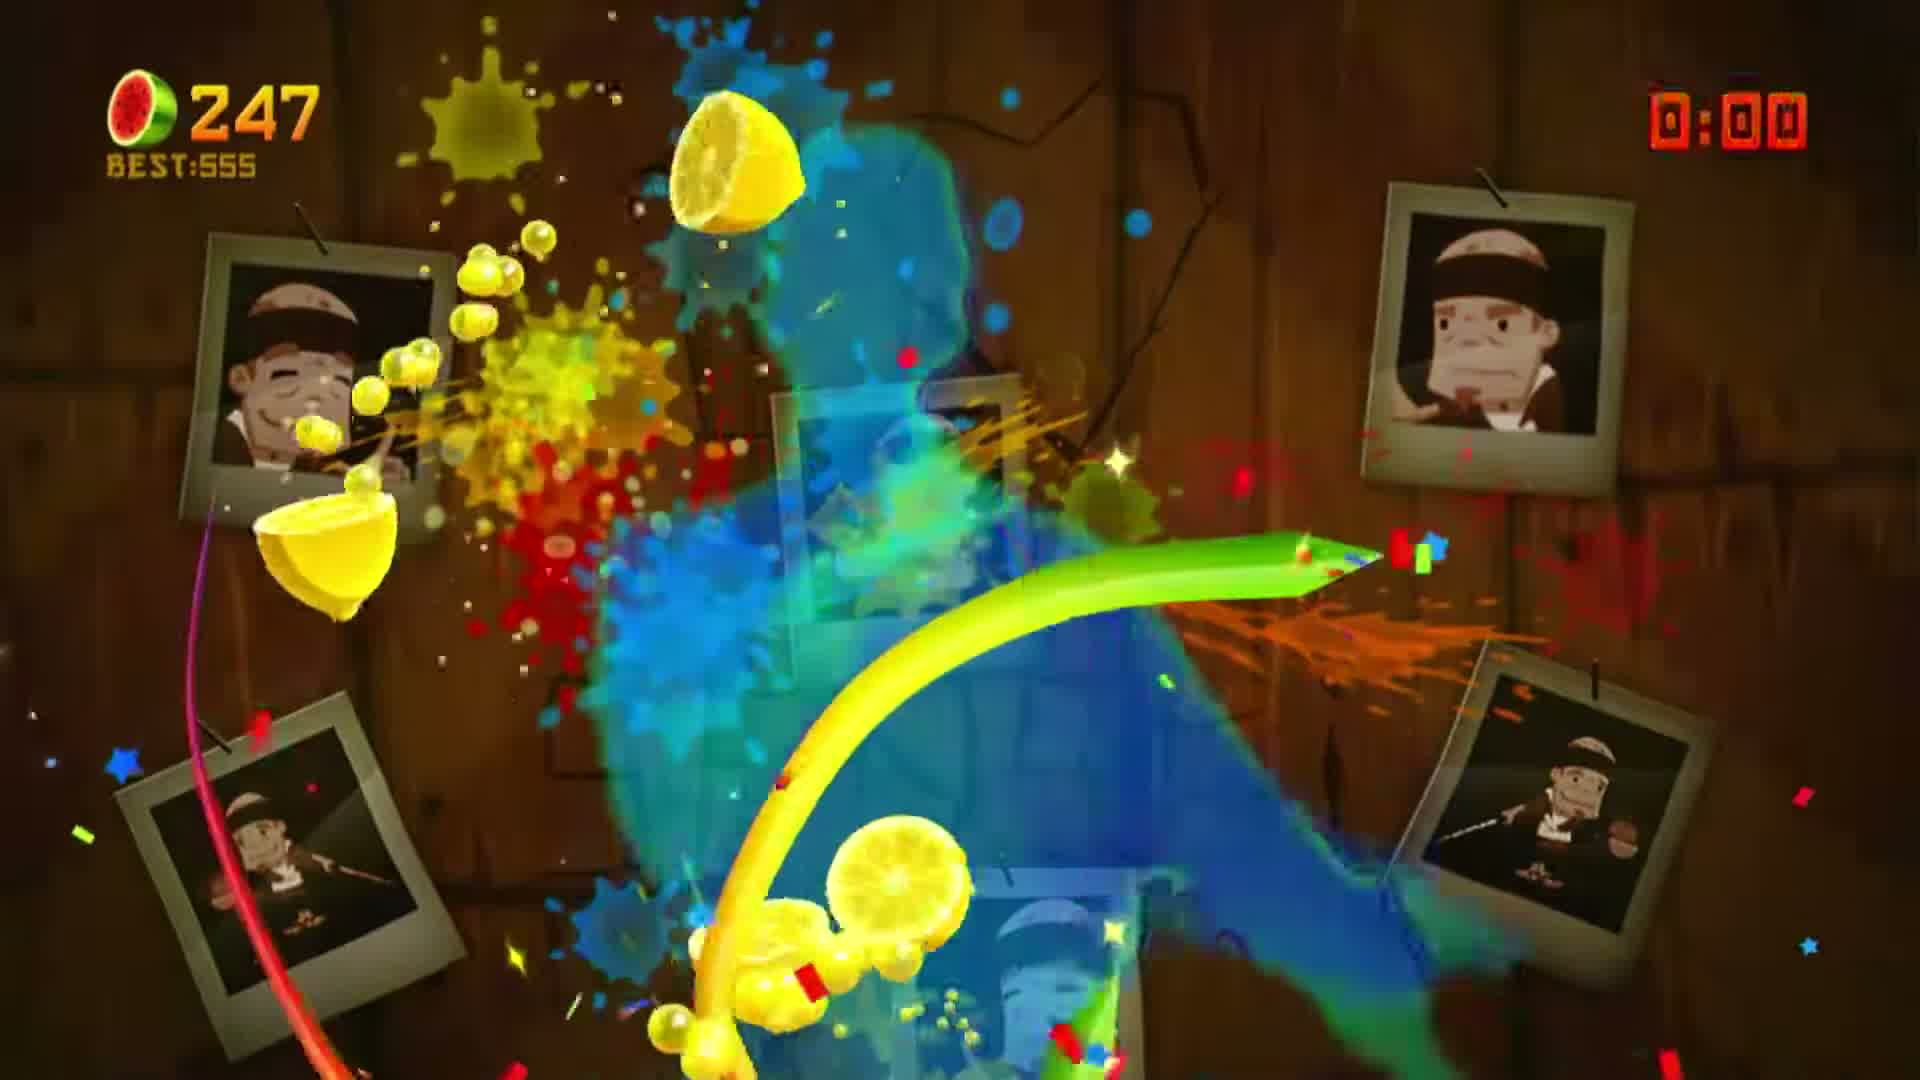blade_trail: (5, 471, 298, 1004), (716, 551, 1377, 773)
fruit: (771, 851, 948, 1017), (645, 167, 775, 319), (641, 967, 807, 1079), (241, 495, 373, 626)
